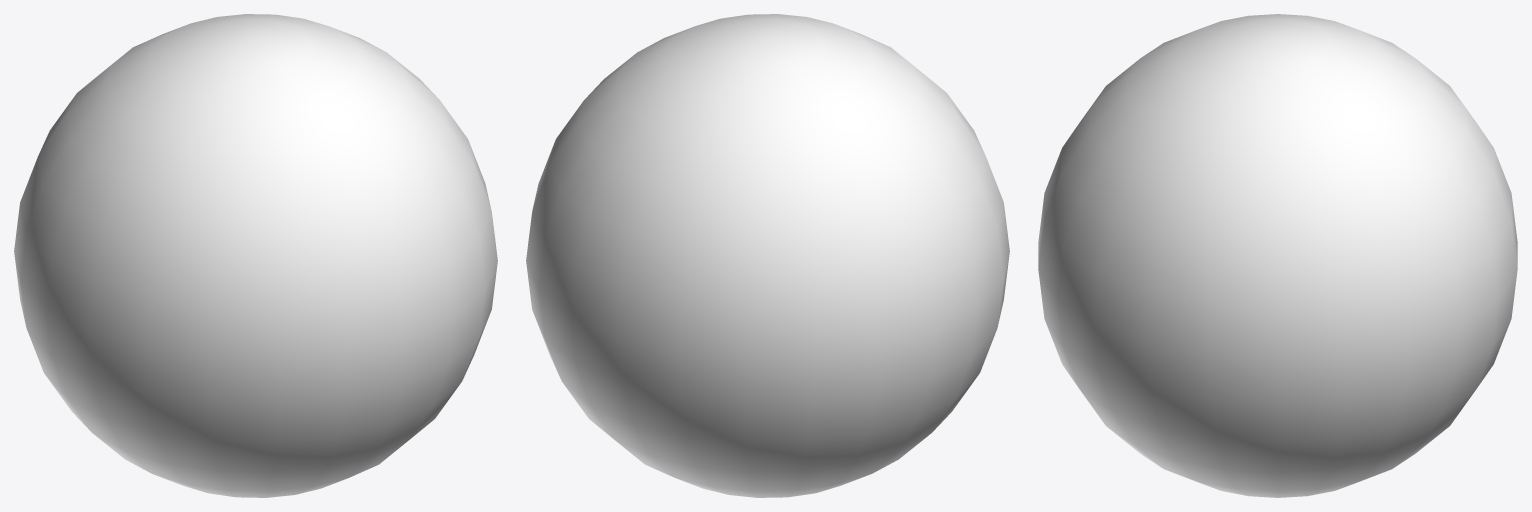
File: SnookerBall_CueBall.fbx
3 renders of one model, left to right at view 1: azimuth 30°, elevation 25°; view 2: azimuth 150°, elevation 25°; view 3: azimuth 270°, elevation 25°, orthographic.
Parts seen in each view (by area): view 1: SnoookerBall_CueBall; view 2: SnoookerBall_CueBall; view 3: SnoookerBall_CueBall.
Boxes of the visible parts, x1=… form: SnoookerBall_CueBall: x1=14, y1=14, x2=497, y2=497; SnoookerBall_CueBall: x1=526, y1=14, x2=1009, y2=497; SnoookerBall_CueBall: x1=1038, y1=14, x2=1517, y2=497.
Bounding box in the file's own units: 0.052 × 0.052 × 0.0515.
1 material, 1 textured.
